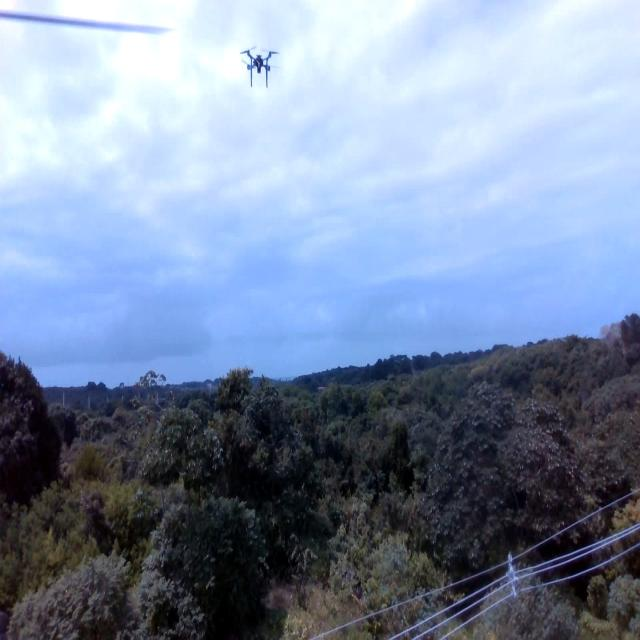-uav-: (233, 36, 287, 99)
